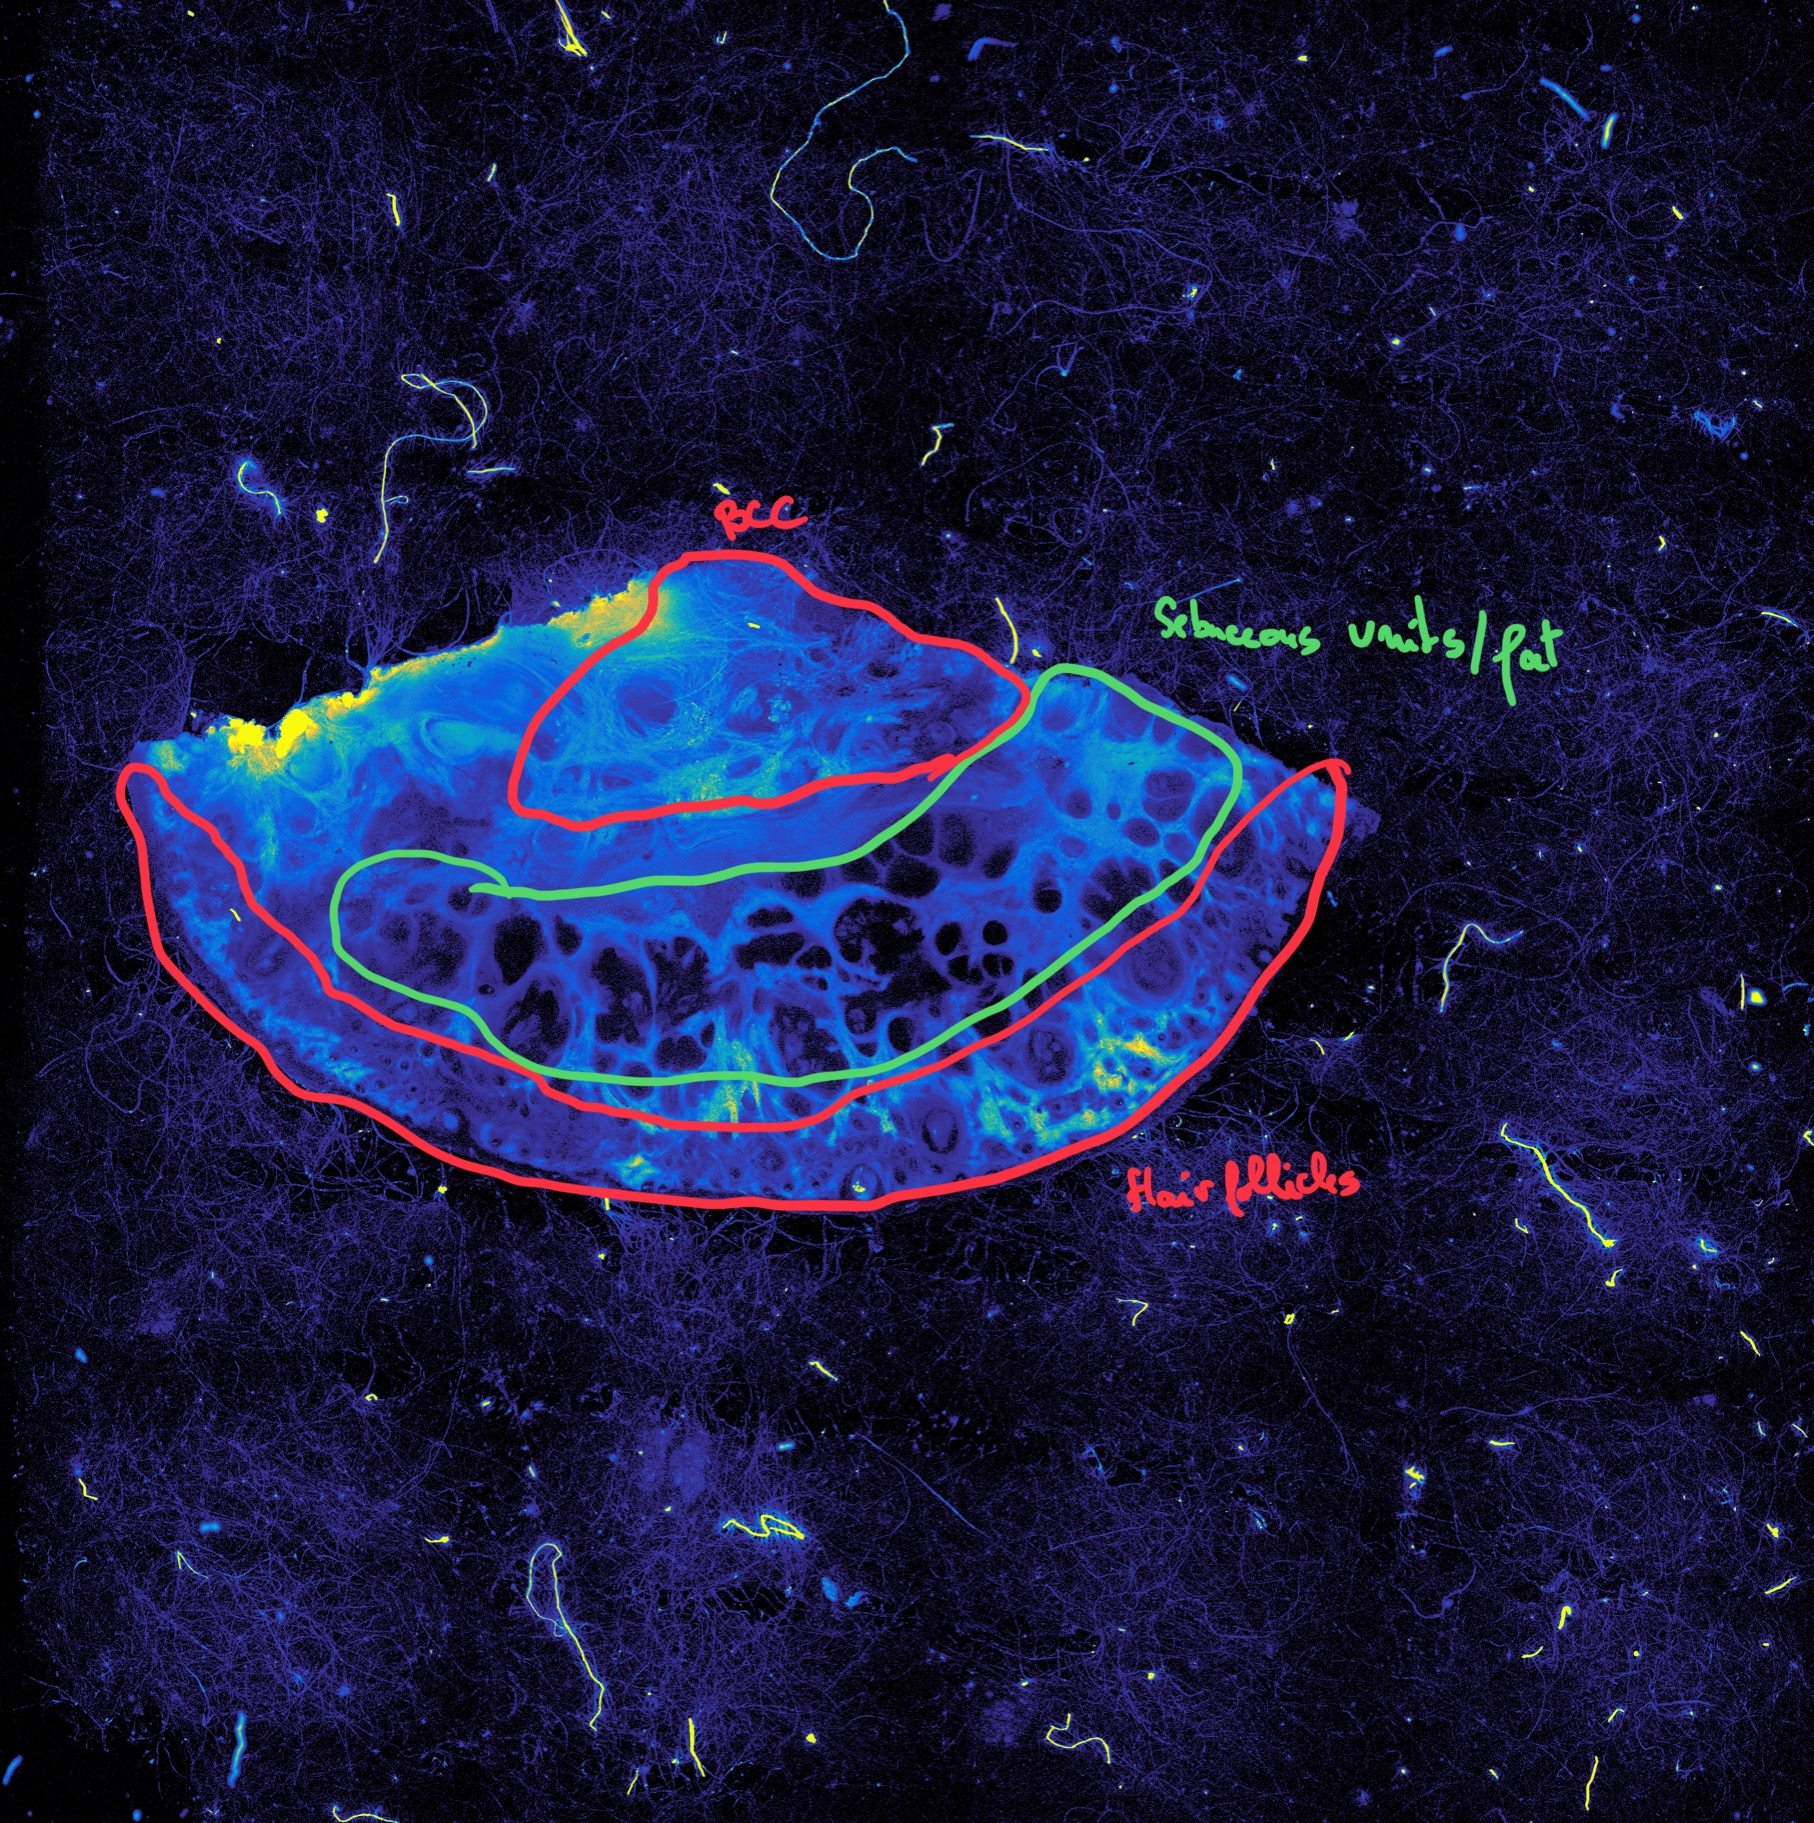BCC: (724, 665, 834, 748), (603, 670, 711, 748), (553, 754, 671, 798), (889, 696, 958, 749), (714, 749, 767, 788), (857, 651, 904, 690), (802, 641, 837, 670)
HF: (1025, 1025, 1086, 1093), (912, 1103, 970, 1157), (836, 1158, 879, 1196), (430, 1103, 472, 1140), (754, 1148, 786, 1173), (347, 1079, 374, 1097), (246, 1004, 267, 1025), (395, 1055, 415, 1075), (490, 1133, 508, 1152), (1007, 1117, 1027, 1133), (344, 1040, 365, 1055), (374, 1054, 395, 1069), (1193, 987, 1209, 1005), (929, 1162, 949, 1177), (1135, 1065, 1155, 1080), (189, 932, 204, 949), (370, 1079, 389, 1092), (1153, 1029, 1168, 1044), (1111, 1093, 1126, 1108), (761, 1183, 776, 1196), (781, 1182, 797, 1193), (1020, 1140, 1033, 1153), (239, 972, 251, 984)
